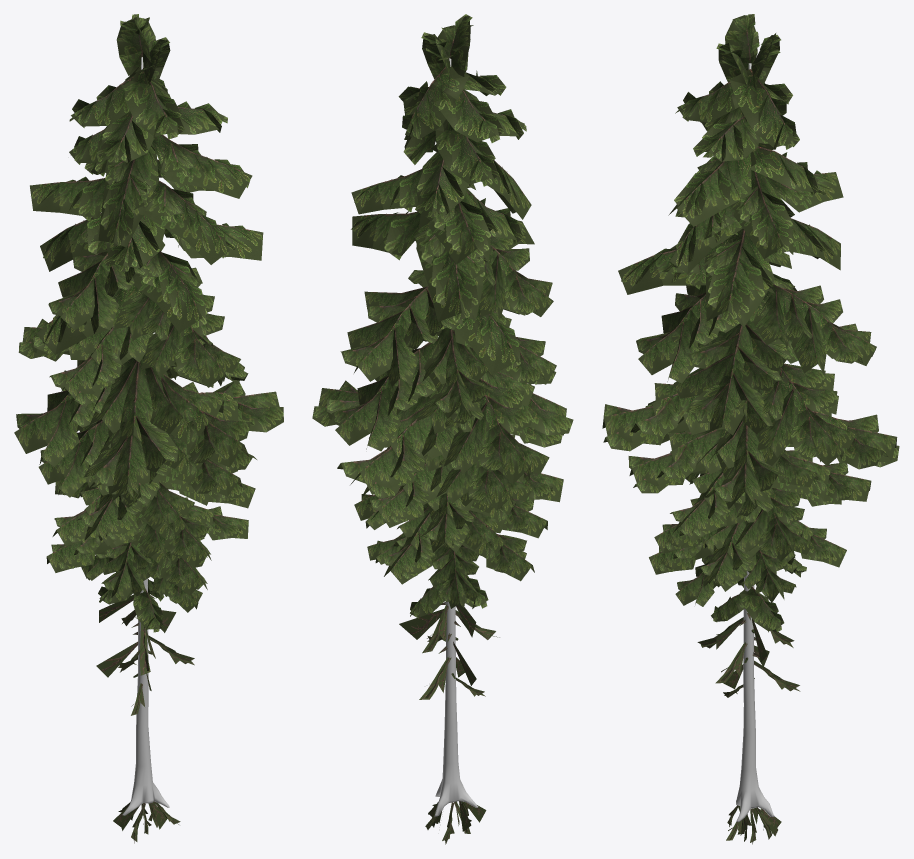
The model's file is SM_Pine02.obj.
3 views of the same model, side by side, from view 1: azimuth 30°, elevation 25°; view 2: azimuth 150°, elevation 25°; view 3: azimuth 270°, elevation 25° (orthographic).
Visible parts, largest first — view 1: SM_Pine02.003, SM_Pine02.002; view 2: SM_Pine02.003, SM_Pine02.002; view 3: SM_Pine02.003, SM_Pine02.002.
Part boxes in pixels (bbox=[...]): SM_Pine02.003: bbox=[14, 14, 283, 843]; SM_Pine02.002: bbox=[122, 57, 169, 815]; SM_Pine02.003: bbox=[312, 14, 573, 844]; SM_Pine02.002: bbox=[434, 58, 478, 816]; SM_Pine02.003: bbox=[602, 14, 899, 844]; SM_Pine02.002: bbox=[736, 63, 774, 822].
Size of the model in its own units: 2.68 by 8.89 by 2.92.
